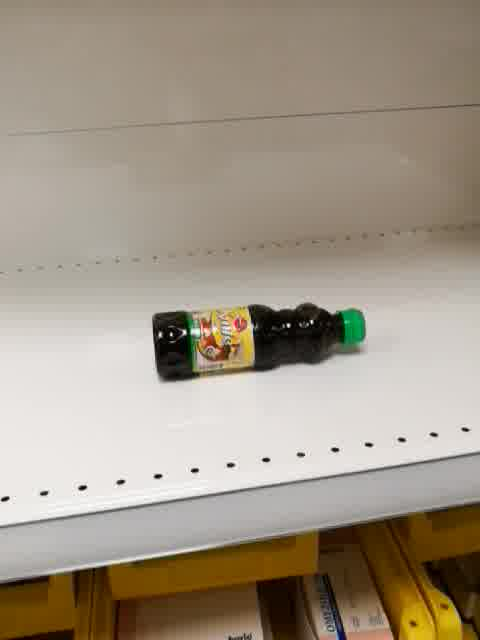cookingoil: (151, 299, 368, 385)
